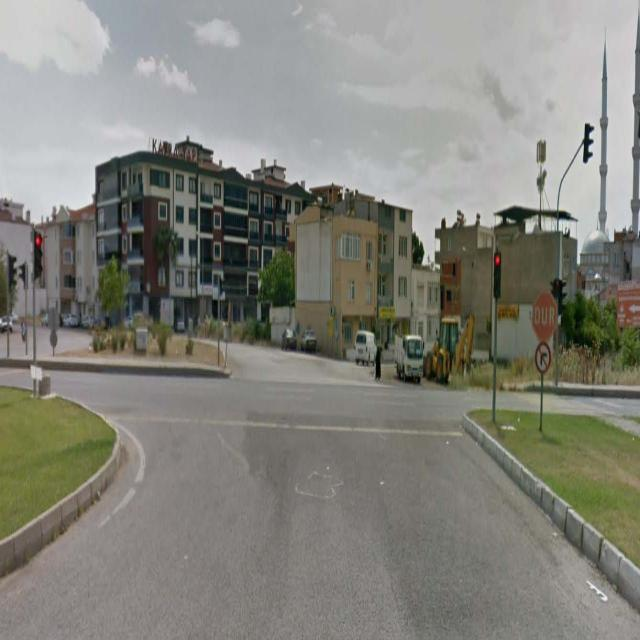dur: (532, 292, 556, 344)
kirmizi: (493, 250, 501, 298), (36, 232, 42, 277)
sagadonulmez: (534, 343, 551, 375)
